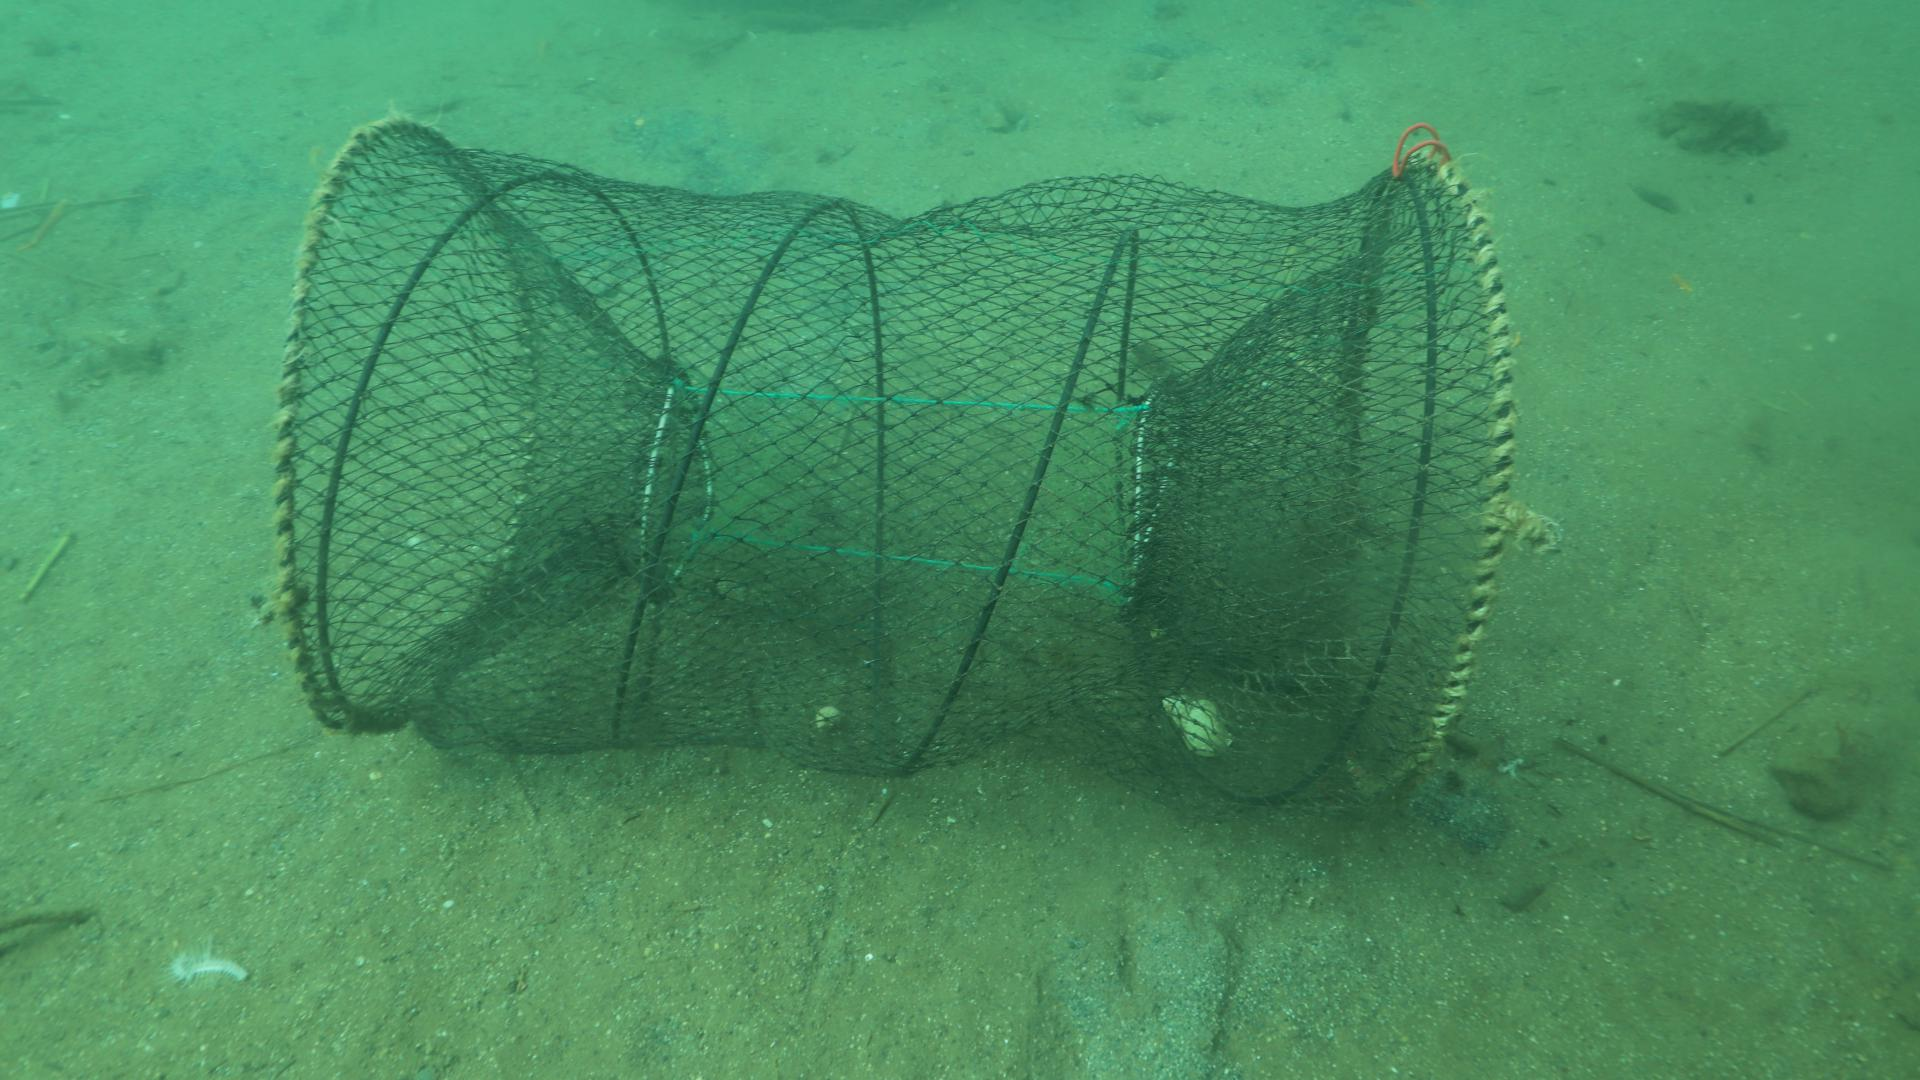spring fish trap: (269, 112, 1513, 822)
